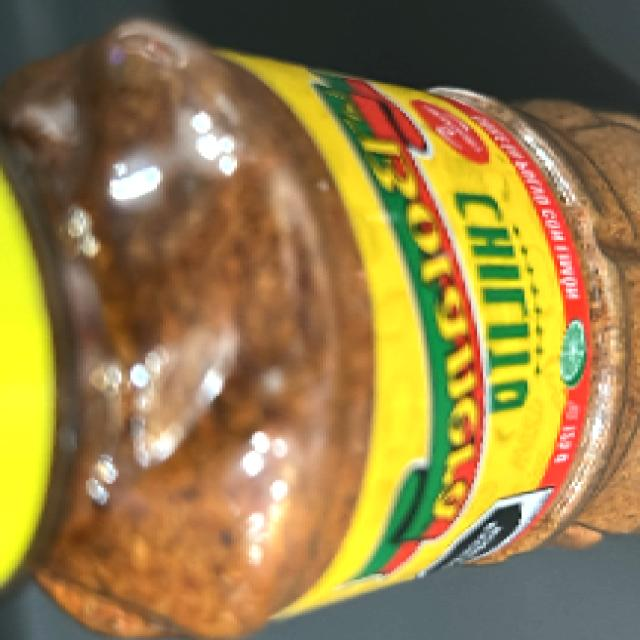botaneraChilito: (7, 56, 640, 562)
